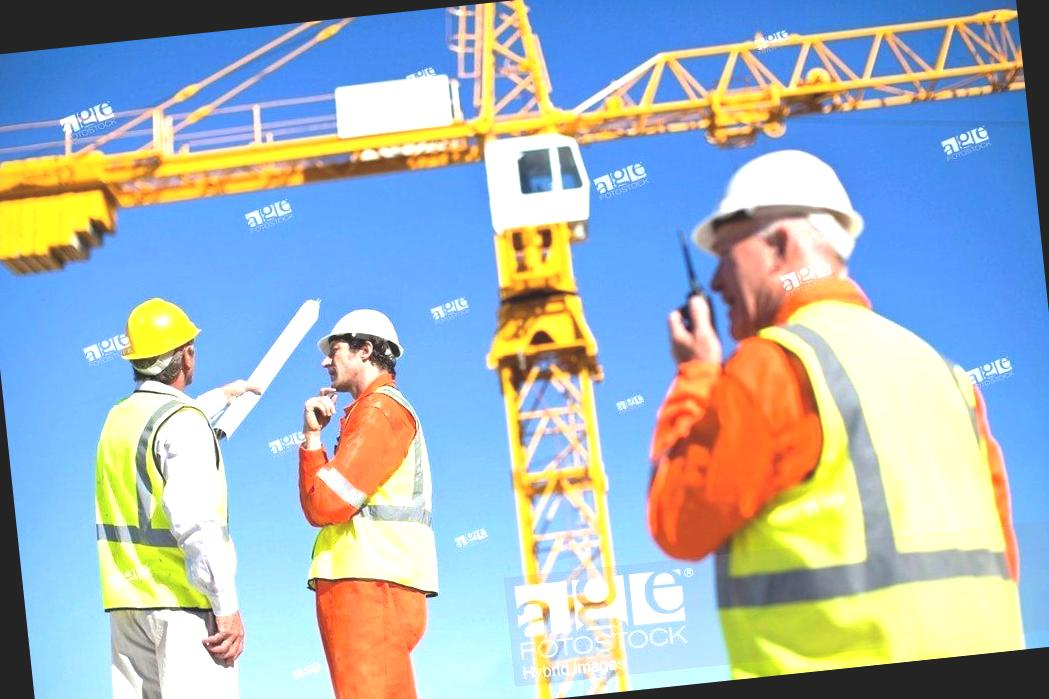helmet: (683, 142, 860, 238), (116, 290, 206, 368), (320, 305, 399, 352)
person: (624, 134, 1028, 685), (64, 287, 279, 699), (276, 297, 462, 699)
